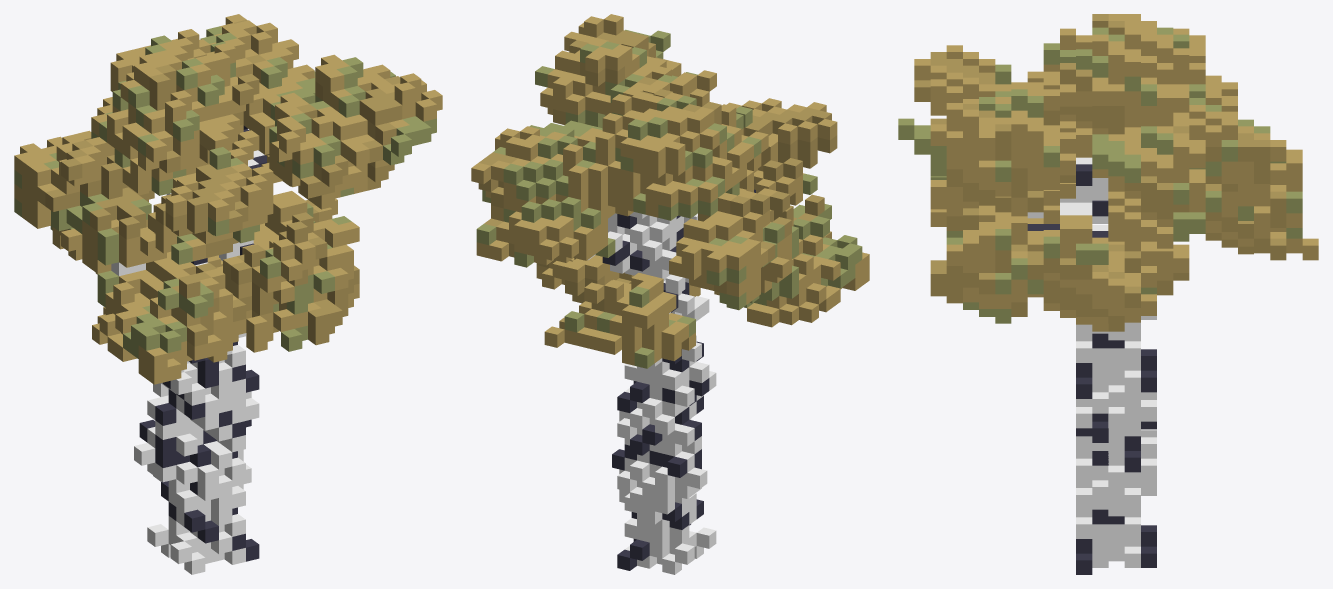
Rendered from tree_birch.obj.
3 views of the same model, side by side, from view 1: azimuth 30°, elevation 25°; view 2: azimuth 150°, elevation 25°; view 3: azimuth 270°, elevation 25° (orthographic). The views are drawn at different scales.
Visible parts, largest first — view 1: tree_birch; view 2: tree_birch; view 3: tree_birch.
Part boxes in pixels (x1,y1,x2,y2): tree_birch: (14,14,442,574); tree_birch: (471,14,869,574); tree_birch: (898,14,1318,574).
Bounding box in the file's own units: 2.2 × 3.5 × 2.6.
Materials: 1 (1 with a texture image).
